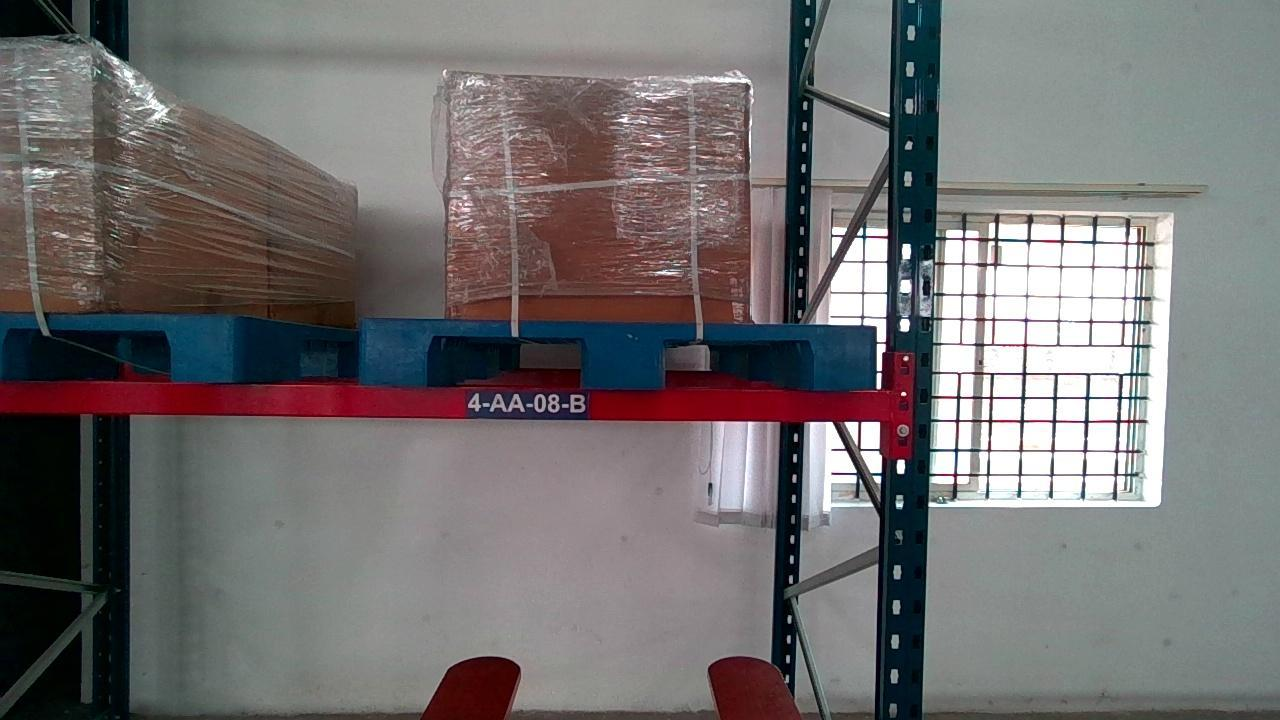h_rack: (0, 379, 892, 421)
small_pallet: (362, 317, 876, 385), (0, 313, 232, 380)
